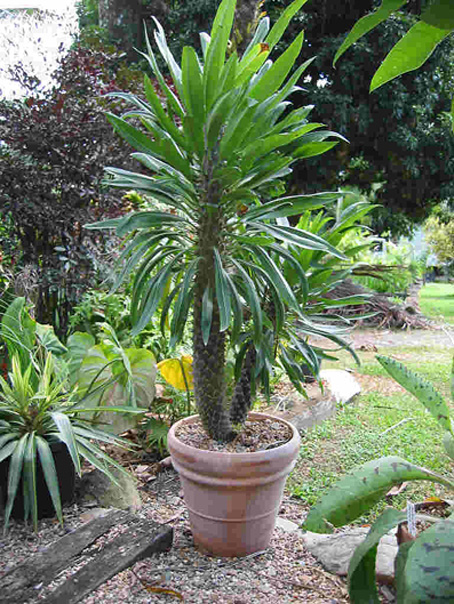Pachypodium lamerei Drake: (128, 41, 361, 434)
